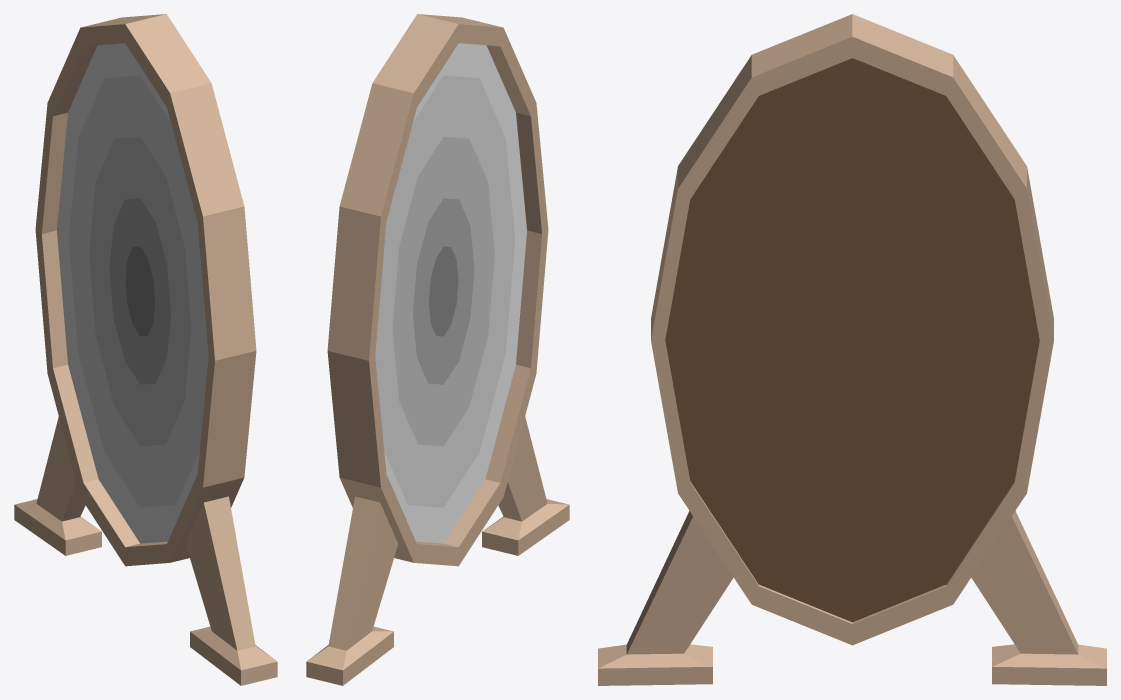
Rendered from mirror.glb.
3 views of the same model, side by side, from view 1: azimuth 30°, elevation 25°; view 2: azimuth 150°, elevation 25°; view 3: azimuth 270°, elevation 25° (orthographic). The views are drawn at different scales.
Visible parts, largest first — view 1: Cylinder; view 2: Cylinder; view 3: Cylinder.
Boxes of the visible parts, <box> form: Cylinder: <box>14,14,277,685</box>; Cylinder: <box>306,14,569,685</box>; Cylinder: <box>598,14,1106,685</box>.
Size of the model in its own units: 0.1378 by 1.84 by 1.3.
1 material, 1 textured.
